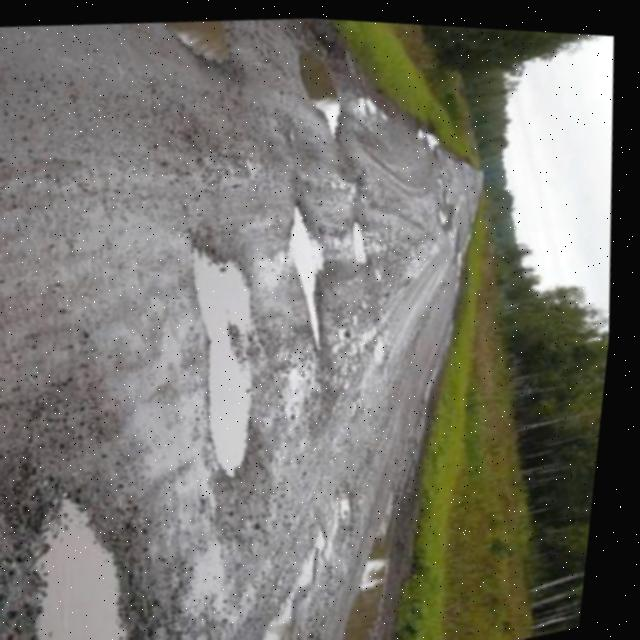Pothole: (158, 221, 316, 487), (0, 475, 181, 640), (273, 190, 361, 344), (121, 11, 254, 94), (282, 31, 360, 140), (300, 524, 348, 579), (344, 211, 381, 260), (218, 621, 308, 640), (337, 485, 371, 523), (412, 117, 447, 150), (434, 197, 460, 221)
